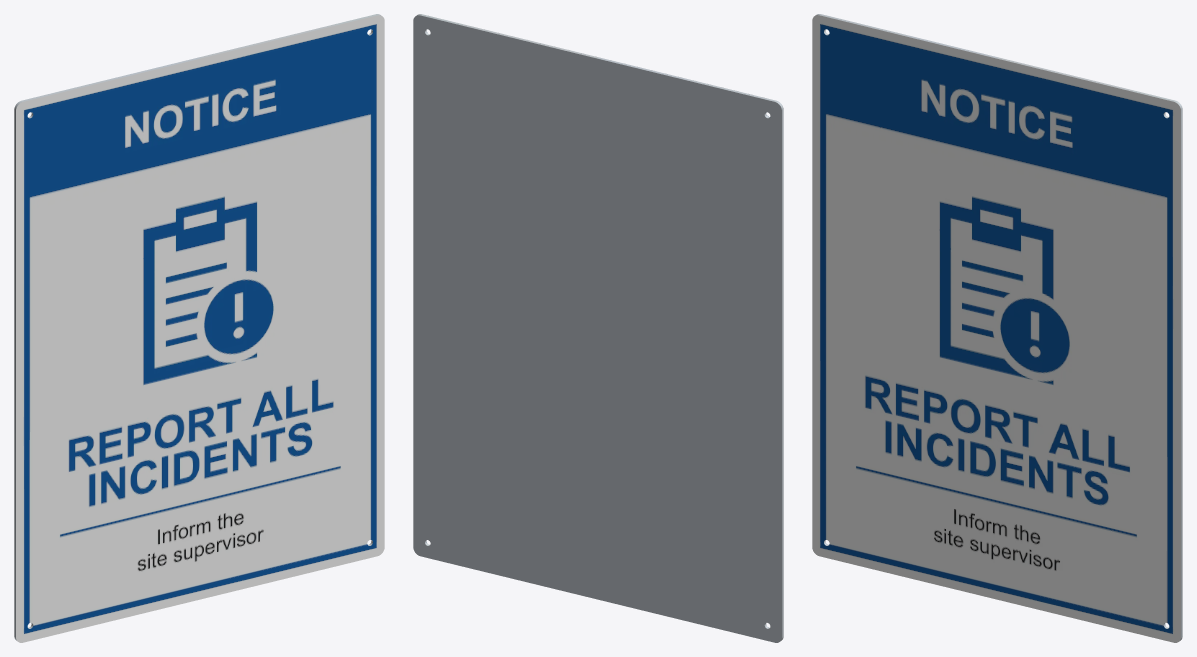
The model's file is investigation-incident-report-sign.glb.
The picture shows the model from 3 angles, left to right: view 1: azimuth 30°, elevation 25°; view 2: azimuth 150°, elevation 25°; view 3: azimuth 330°, elevation 25°; orthographic projection.
Visible parts, largest first — view 1: Aluminium plate with through mounting holes; view 2: Aluminium plate with through mounting holes; view 3: Aluminium plate with through mounting holes.
Boxes of the visible parts, left/top/right/bottom form: Aluminium plate with through mounting holes: left=14, top=14, right=384, bottom=642; Aluminium plate with through mounting holes: left=413, top=14, right=783, bottom=642; Aluminium plate with through mounting holes: left=812, top=14, right=1182, bottom=642.
Bounding box in the file's own units: 0.254 × 0.356 × 0.002.
Materials: 2 (2 with a texture image).
